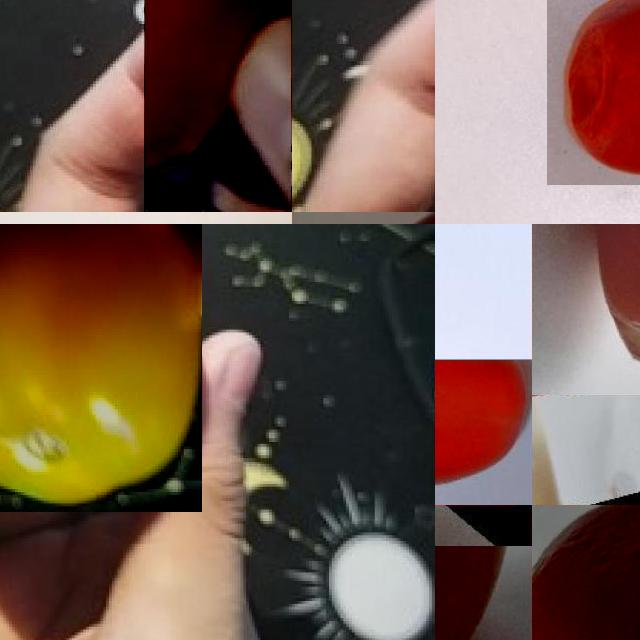0: (144, 0, 292, 212)
Fresh Tomato: (435, 359, 532, 505)
Rotten Tomato: (0, 224, 202, 512), (532, 224, 640, 395), (547, 0, 640, 185)
